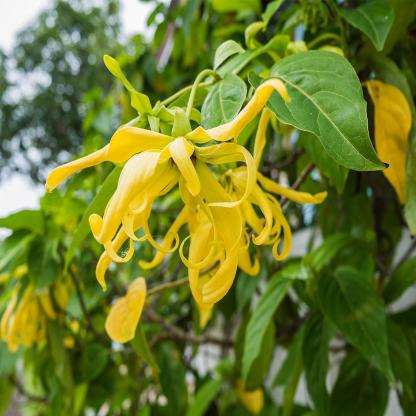Kenanga: (177, 171, 297, 292), (116, 115, 209, 266)
